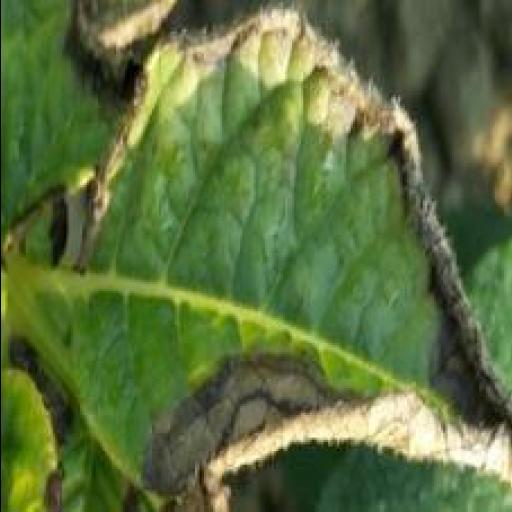disease_tomato: (5, 2, 512, 511)
